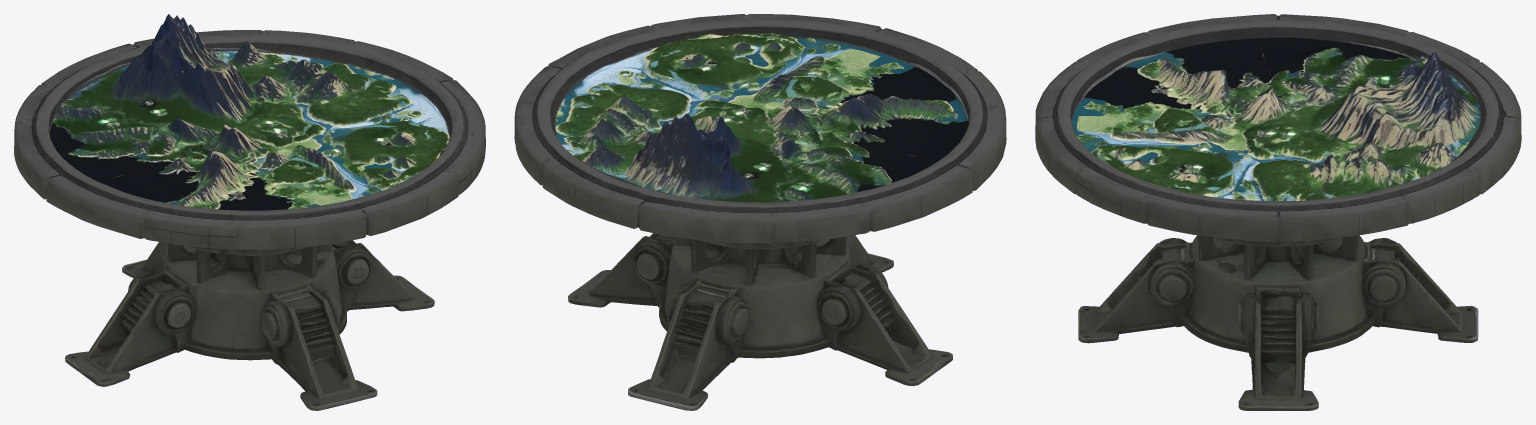
Rendered from mx_dr_holotable.glb.
The picture shows the model from 3 angles, left to right: view 1: azimuth 30°, elevation 25°; view 2: azimuth 150°, elevation 25°; view 3: azimuth 270°, elevation 25°; orthographic projection. The views are drawn at different scales.
Visible parts, largest first — view 1: mesh_node; view 2: mesh_node; view 3: mesh_node.
Part boxes in pixels (box(x1,y1,x2,y2)): mesh_node: box(14, 14, 485, 410); mesh_node: box(514, 14, 1006, 410); mesh_node: box(1035, 14, 1521, 410).
Size of the model in its own units: 1.9 by 1.17 by 1.89.
Materials: 1 (1 with a texture image).
